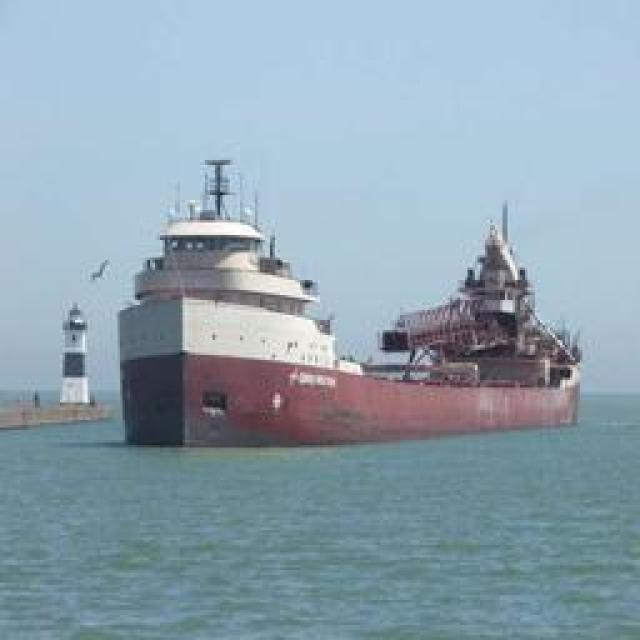CIV_Ship: (116, 154, 584, 448)
